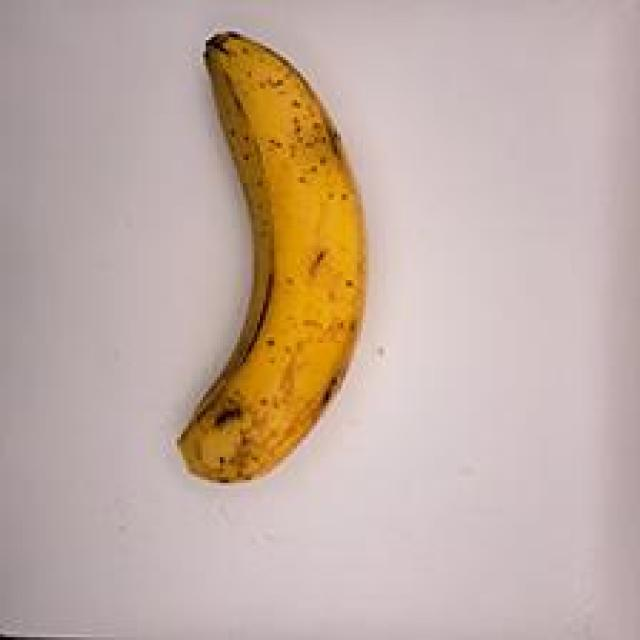Overripe: (124, 14, 400, 494)
